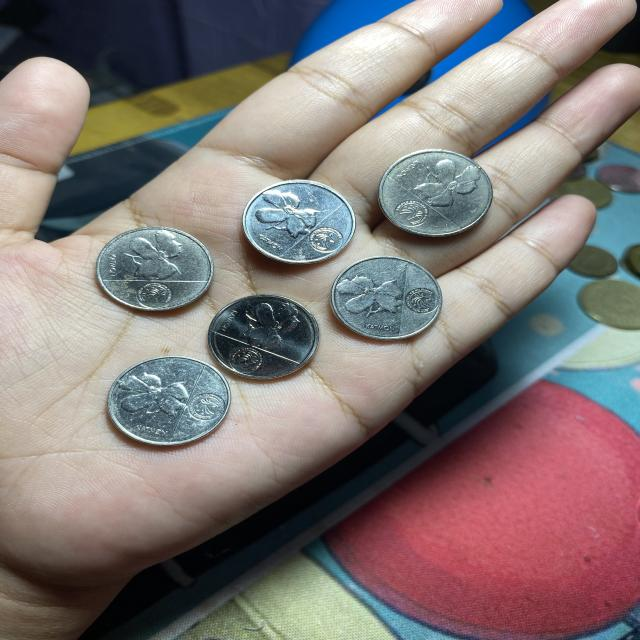25Cent_New_Back: (113, 367, 185, 423), (338, 274, 411, 327), (415, 152, 482, 207), (248, 187, 320, 232), (120, 232, 184, 278)
